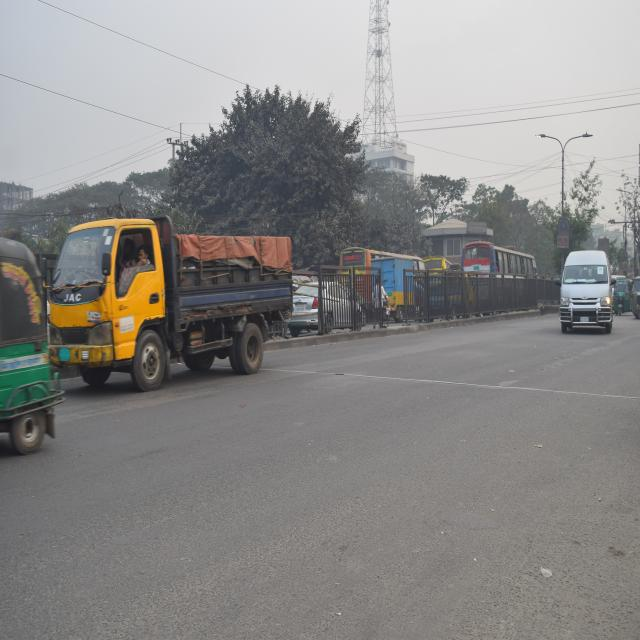bus: (460, 238, 535, 311)
car: (295, 272, 371, 338)
microbus: (559, 249, 615, 339)
motorbike: (368, 274, 396, 328)
pickup-van: (369, 252, 432, 318)
truck: (48, 210, 301, 386)
